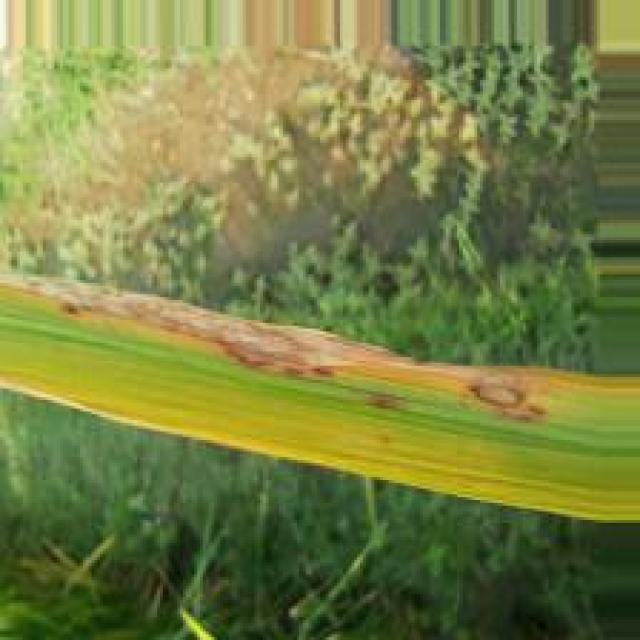Rice Tungro: (0, 271, 425, 387), (459, 372, 544, 424)
